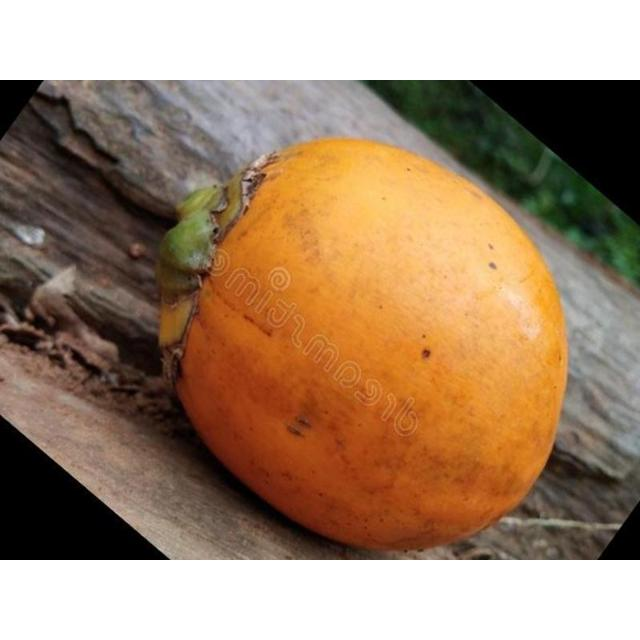good: (155, 138, 570, 554)
